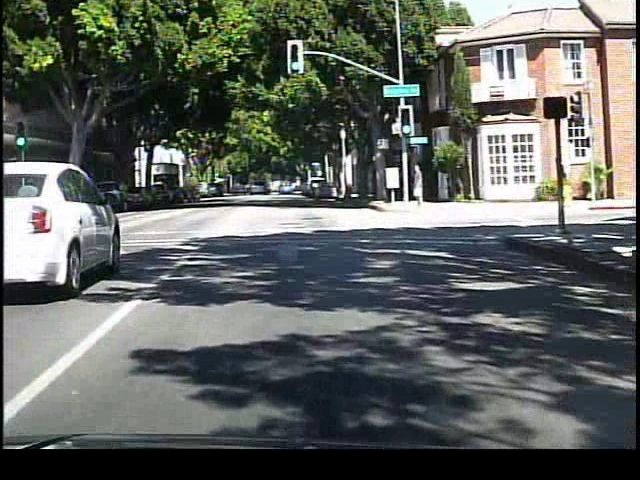person: (410, 158, 430, 211)
